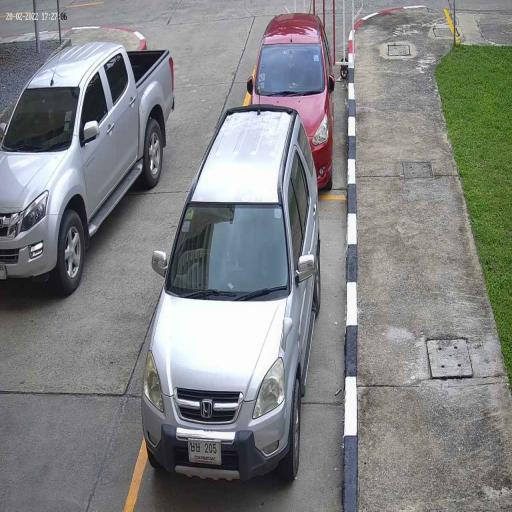car: (142, 103, 321, 487), (0, 41, 176, 297), (246, 12, 336, 189)
